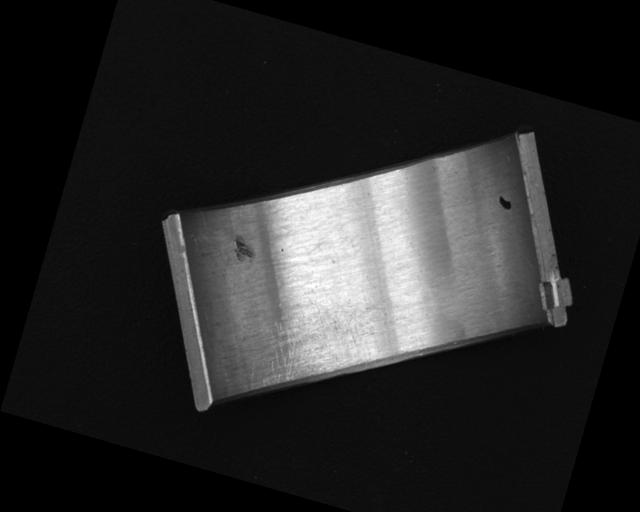blot: (495, 193, 515, 211)
bruise: (227, 235, 260, 266)
scratch: (243, 291, 375, 416)
